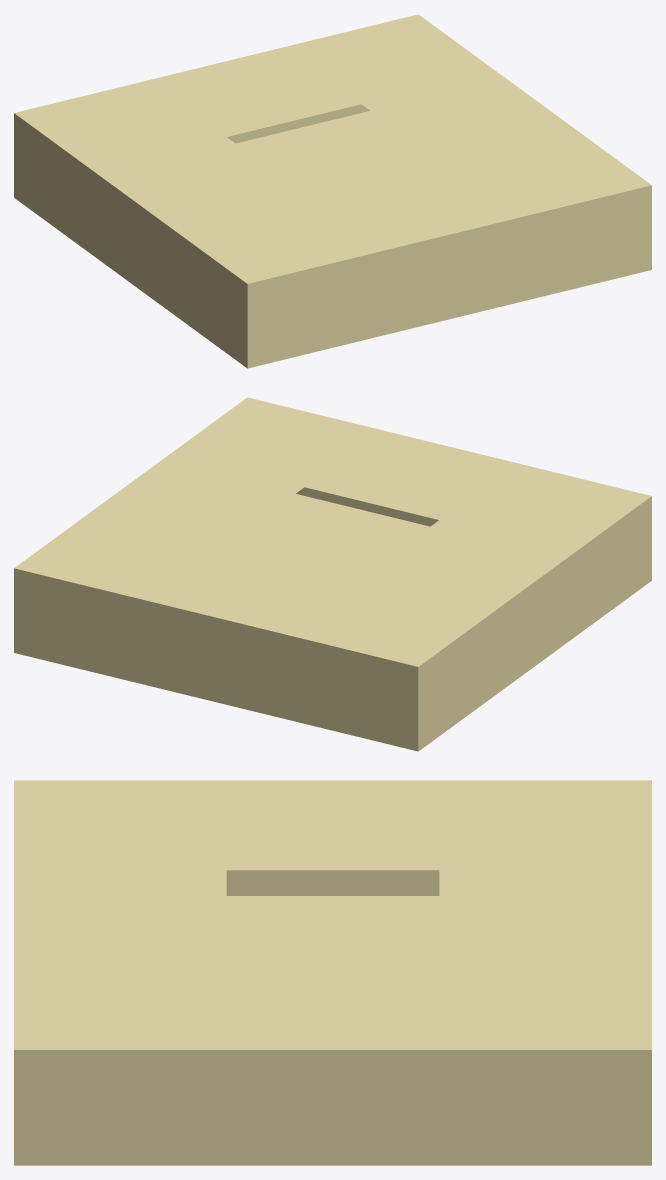
File: stage02.obj
The picture shows the model from 3 angles, top to bottom: view 1: azimuth 30°, elevation 25°; view 2: azimuth 150°, elevation 25°; view 3: azimuth 270°, elevation 25°; orthographic projection. The views are drawn at different scales.
Visible parts, largest first — view 1: default; view 2: default; view 3: default.
Part boxes in pixels (x1,y1,x2,y2): default: [14, 14, 651, 368]; default: [14, 397, 651, 751]; default: [14, 780, 651, 1165].
Size of the model in its own units: 5 by 1 by 5.
1 material, 1 textured.
